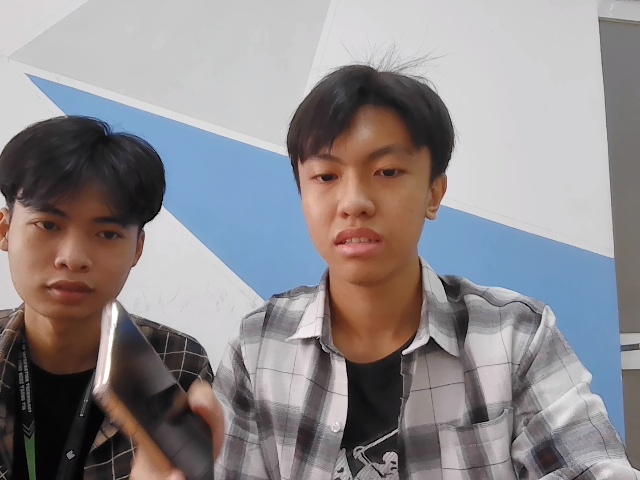human: (273, 71, 467, 289), (2, 114, 164, 318)
phone: (75, 297, 255, 478)
